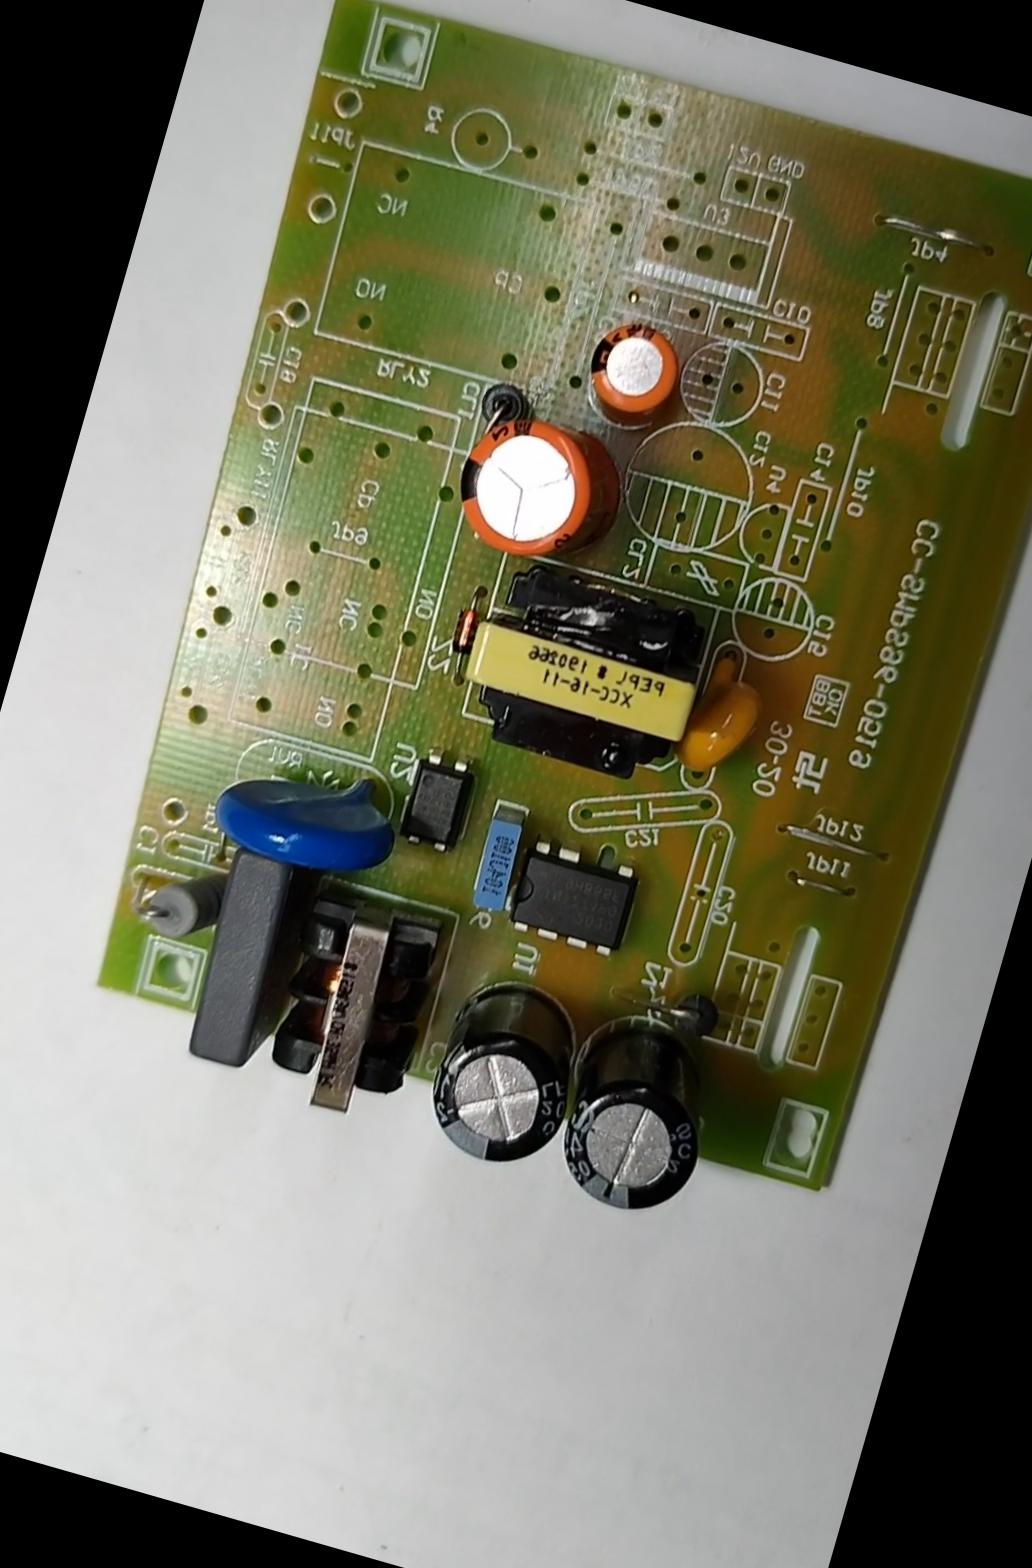Cap1: (442, 393, 616, 574)
Cap2: (577, 311, 691, 431)
Cap3: (412, 969, 599, 1181)
Cap4: (544, 995, 735, 1227)
MOSFET: (503, 831, 643, 964)
Mov: (202, 731, 413, 893)
Resistor: (138, 846, 234, 951)
Transformer: (446, 556, 718, 794), (246, 890, 445, 1136)
